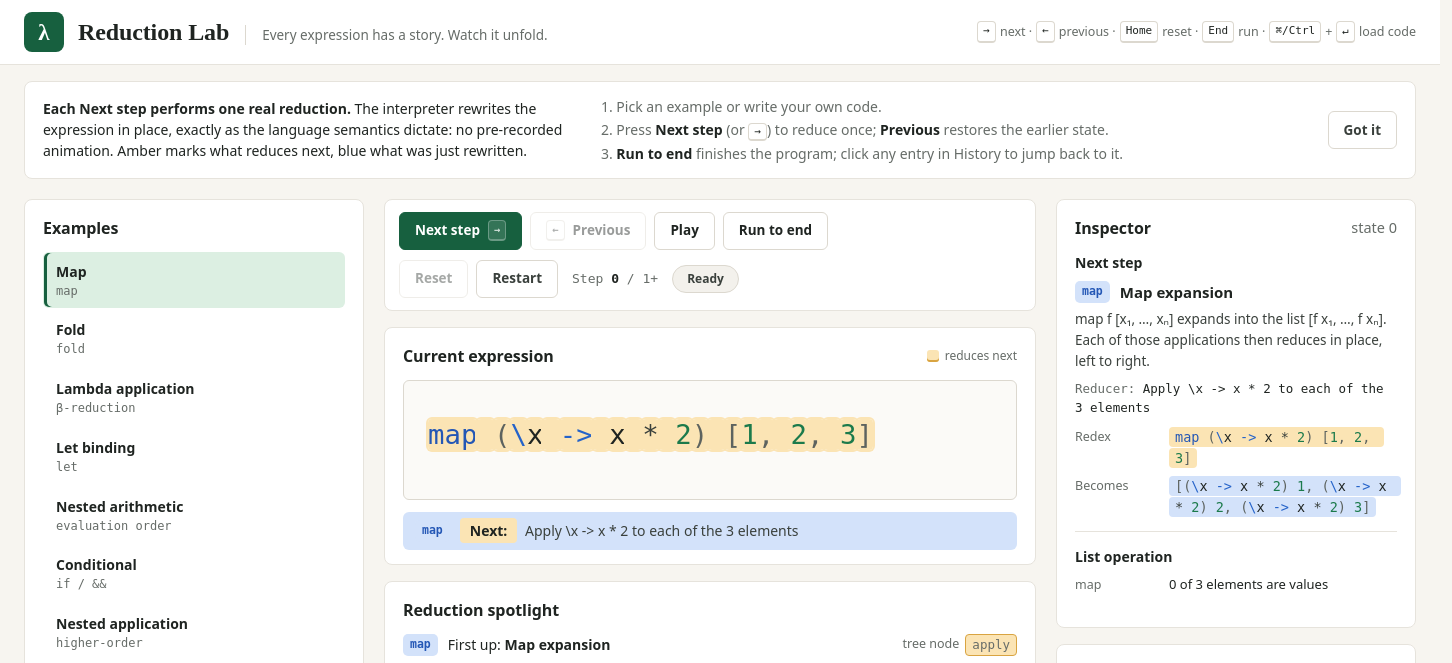
Test: timers stop when they should › Pause clears the pending autoplay timer
This screenshot has width=1452, height=663.
Click the button "Play": (685, 230) x1=654 y1=212 x2=715 y2=250
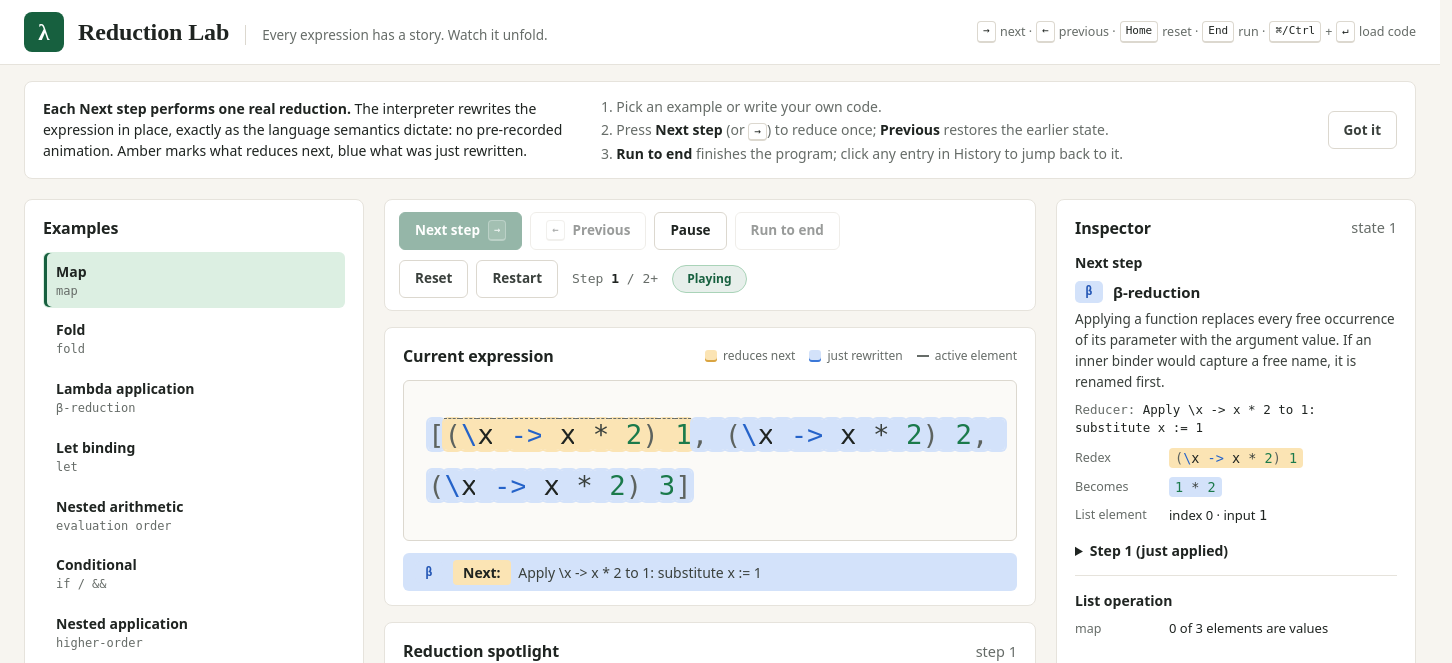
Click the button "Pause": (690, 230) x1=654 y1=212 x2=727 y2=250
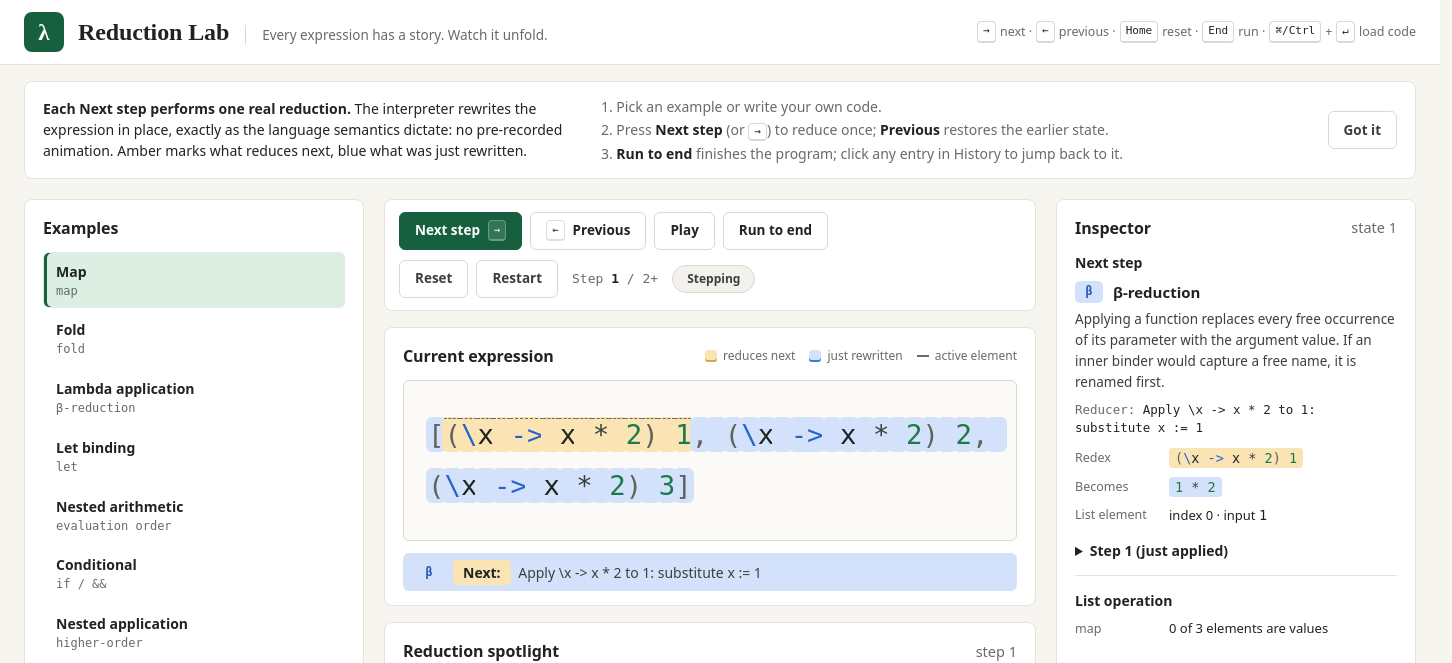
Check: the message "Playing" no longer shows "Playing"
